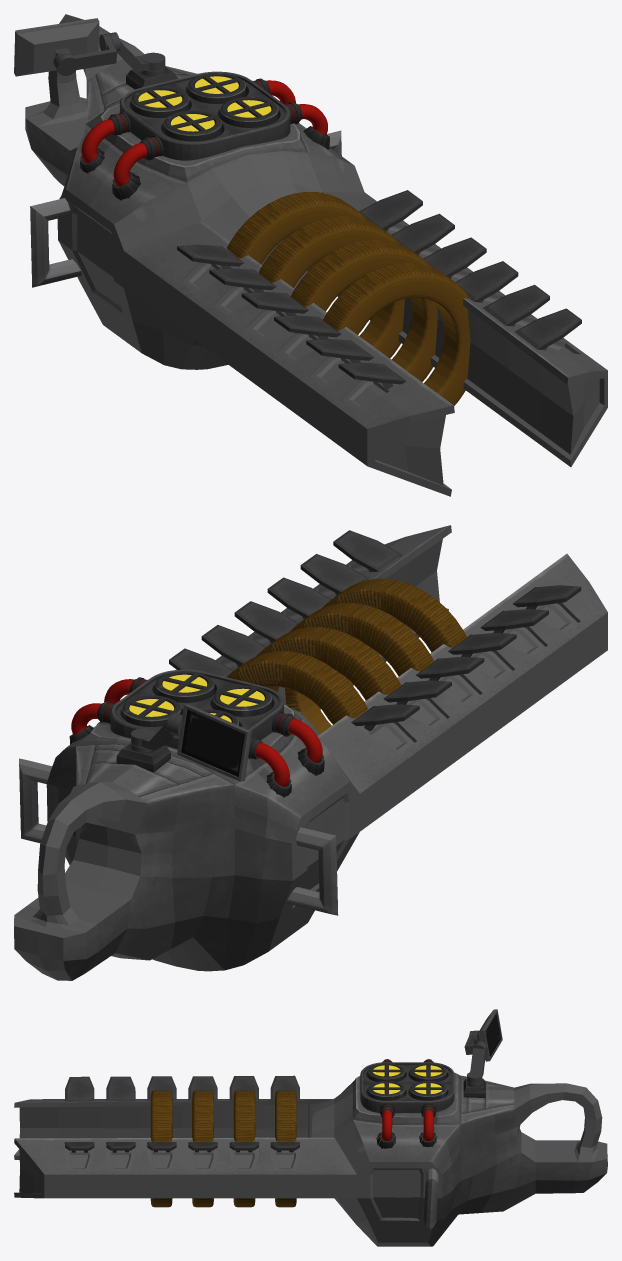
The model's file is PR_Launcher.fbx.
The picture shows the model from 3 angles, top to bottom: view 1: azimuth 30°, elevation 25°; view 2: azimuth 150°, elevation 25°; view 3: azimuth 270°, elevation 25°; orthographic projection. The views are drawn at different scales.
Visible parts, largest first — view 1: Cube.003, Cylinder.004, Cylinder.023, Cube.024, Cube.025, Cube.006, Wire5.006, Cube.051, Cube.048, Cube.045, Cube.023, Cube.039 (+10 smaller); view 2: Cube.003, Cylinder.004, Cylinder.023, Cube.006, Cube.025, Cube.024, Wire5.006, Cube.051, Cube.048, Cube.039, Cube.042, Cube.045 (+10 smaller); view 3: Cube.003, Cylinder.004, Cylinder.023, Cube.024, Cube.006, Cube.025, Cube.066, Cube.069, Wire5.006, Cube.054, Cube.057, Cube.060 (+4 smaller).
Boxes of the visible parts, x1,y1,x2,y2 form: Cube.003: (25, 14, 607, 496); Cylinder.004: (227, 192, 470, 405); Cylinder.023: (131, 73, 278, 141); Cube.024: (119, 71, 290, 160); Cube.025: (14, 18, 99, 76); Cube.006: (30, 130, 341, 287); Wire5.006: (81, 80, 327, 186); Cube.051: (515, 308, 581, 350); Cube.048: (483, 284, 549, 326); Cube.045: (455, 261, 518, 302); Cube.023: (359, 190, 422, 231); Cube.039: (391, 213, 454, 255); Cube.003: (14, 525, 607, 980); Cylinder.004: (227, 579, 466, 733); Cylinder.023: (122, 671, 272, 726); Cube.006: (19, 758, 338, 915); Cube.025: (177, 704, 251, 781); Cube.024: (110, 669, 284, 749); Wire5.006: (71, 679, 322, 786); Cube.051: (333, 530, 401, 572); Cube.048: (300, 554, 368, 595); Cube.039: (201, 625, 265, 666); Cube.042: (234, 601, 298, 643); Cube.045: (267, 577, 331, 619); Cube.003: (14, 1072, 607, 1246); Cylinder.004: (150, 1090, 296, 1207); Cylinder.023: (368, 1063, 447, 1100); Cube.024: (360, 1062, 454, 1113); Cube.006: (423, 1168, 438, 1229); Cube.025: (478, 1009, 502, 1061); Cube.066: (106, 1076, 135, 1101); Cube.069: (65, 1076, 94, 1101); Wire5.006: (382, 1059, 433, 1141); Cube.054: (270, 1075, 299, 1100); Cube.057: (229, 1076, 258, 1100); Cube.060: (188, 1076, 217, 1100).
Size of the model in its own units: 259 by 236 by 666.
